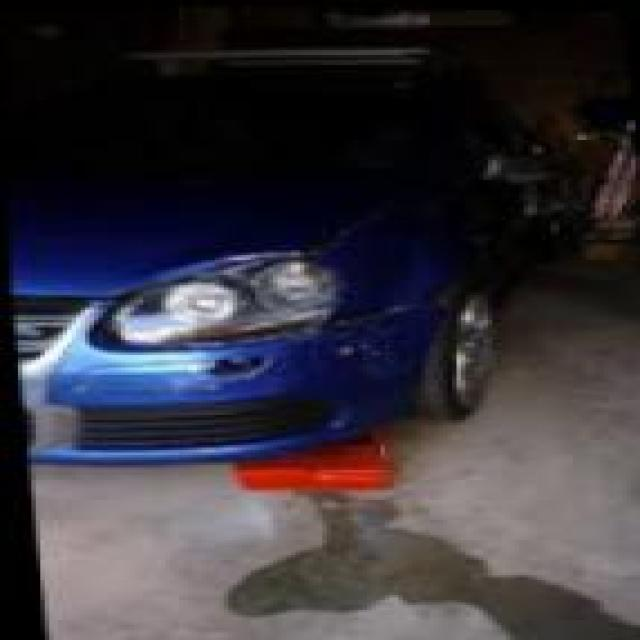Bumper: (188, 340, 360, 408)
